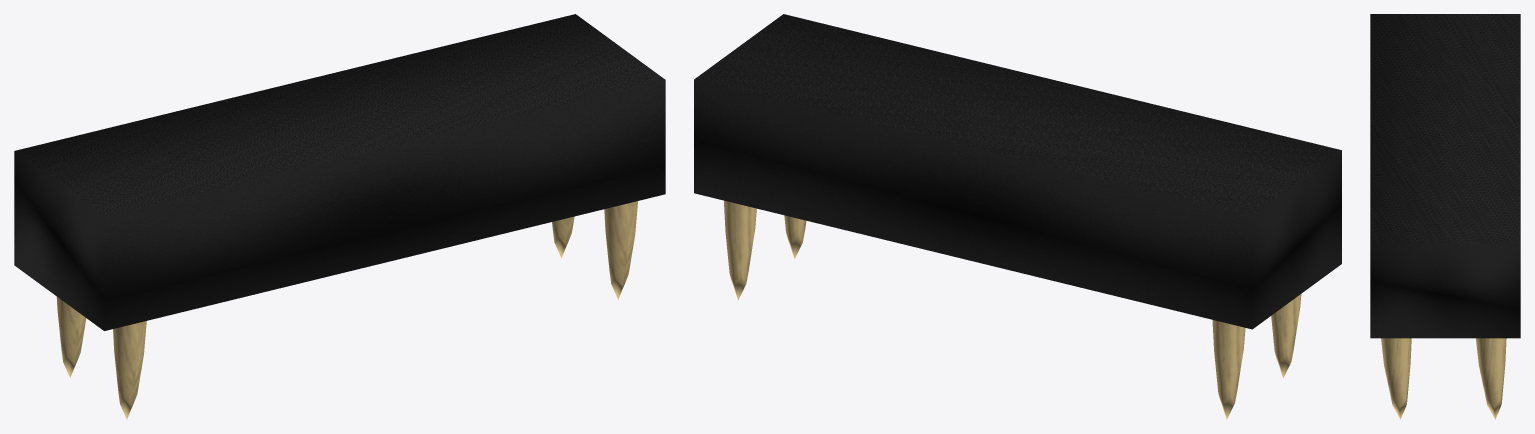
Rendered from Squarebench.fbx.
3 renders of one model, left to right at view 1: azimuth 30°, elevation 25°; view 2: azimuth 150°, elevation 25°; view 3: azimuth 270°, elevation 25°, orthographic. The views are drawn at different scales.
Parts seen in each view (by area): view 1: coach, leg1, leg3, leg; view 2: coach, leg2, leg, leg1, leg3; view 3: coach, leg3, leg2.
Boxes of the visible parts, <box> form: coach: <box>14,14,665,330</box>; leg1: <box>113,321,146,419</box>; leg3: <box>604,201,637,299</box>; leg: <box>56,296,86,377</box>; coach: <box>694,14,1341,329</box>; leg2: <box>724,200,756,300</box>; leg: <box>1212,320,1245,419</box>; leg1: <box>1271,294,1301,377</box>; leg3: <box>784,215,806,258</box>; coach: <box>1370,14,1520,338</box>; leg3: <box>1381,338,1411,419</box>; leg2: <box>1476,338,1506,419</box>.
Size of the model in its own units: 2.96 by 1.14 by 0.8216.
